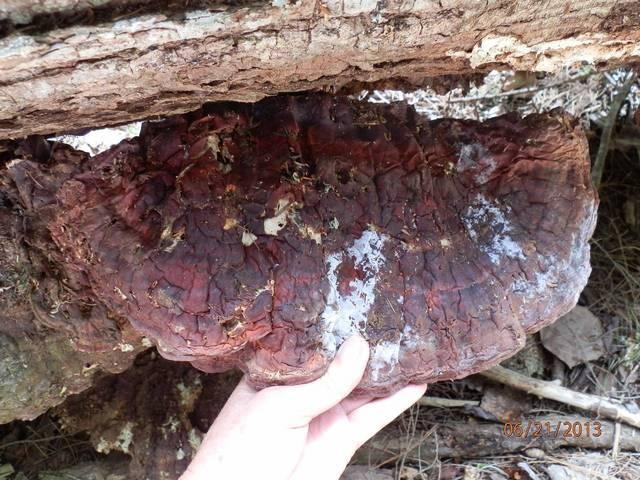Non-edible Mushroom: (34, 91, 601, 400)
